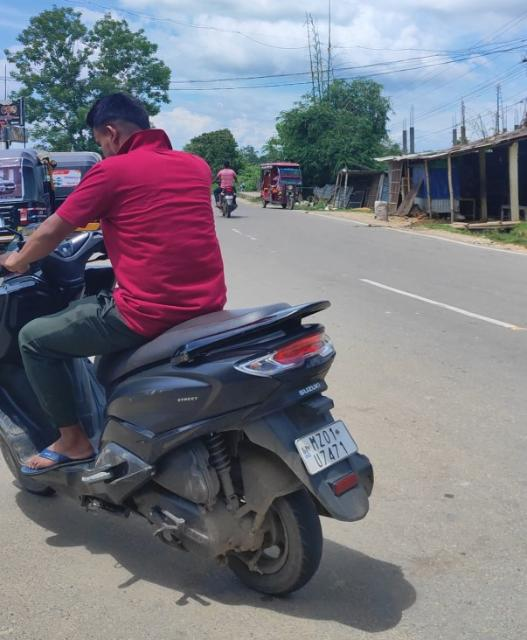licensePlate: (296, 426, 359, 476)
motorcycle: (0, 91, 372, 595)
withoutHelmet: (84, 94, 159, 161)
